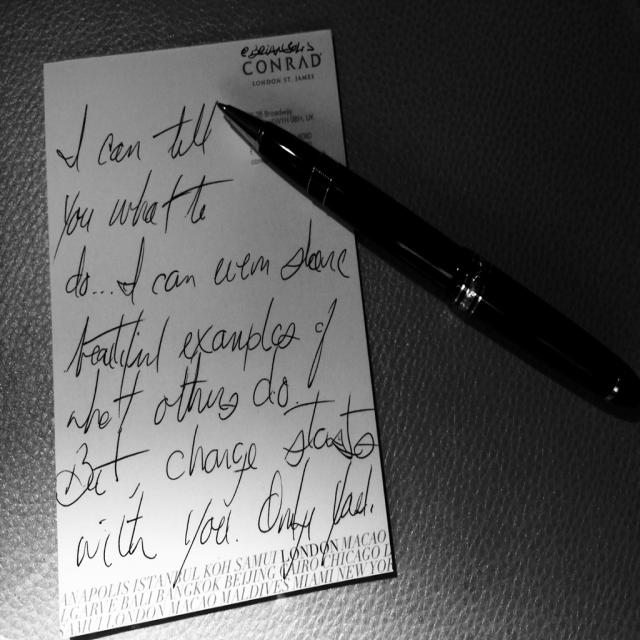pen: (215, 104, 640, 433)
